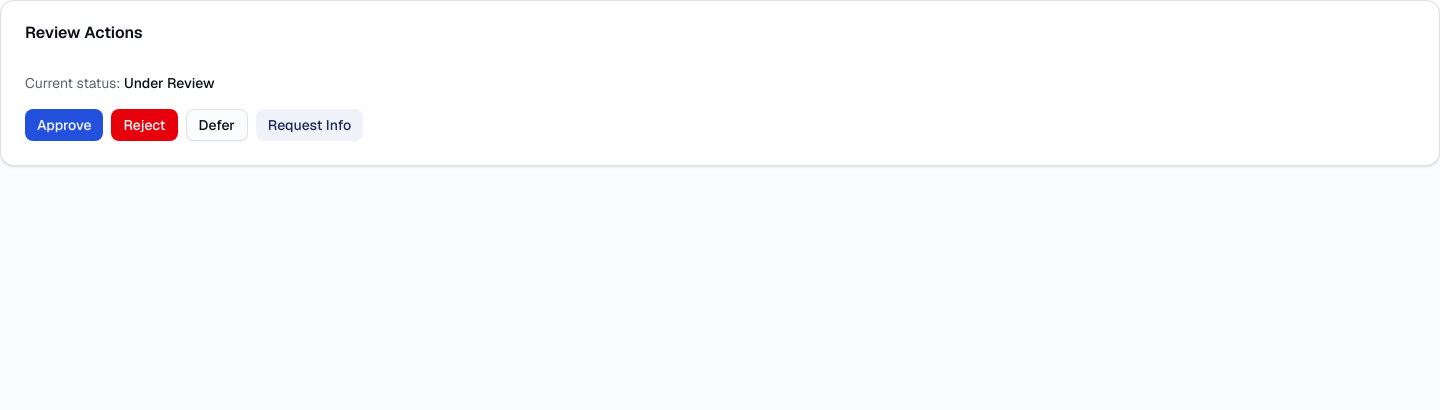
Scenario: DecisionPanel lifecycle actions › should show an error when a decision is refused
The width and height of the screenshot is (1440, 410).
Click the button "Defer" at (217, 125), box [186,109,248,141]
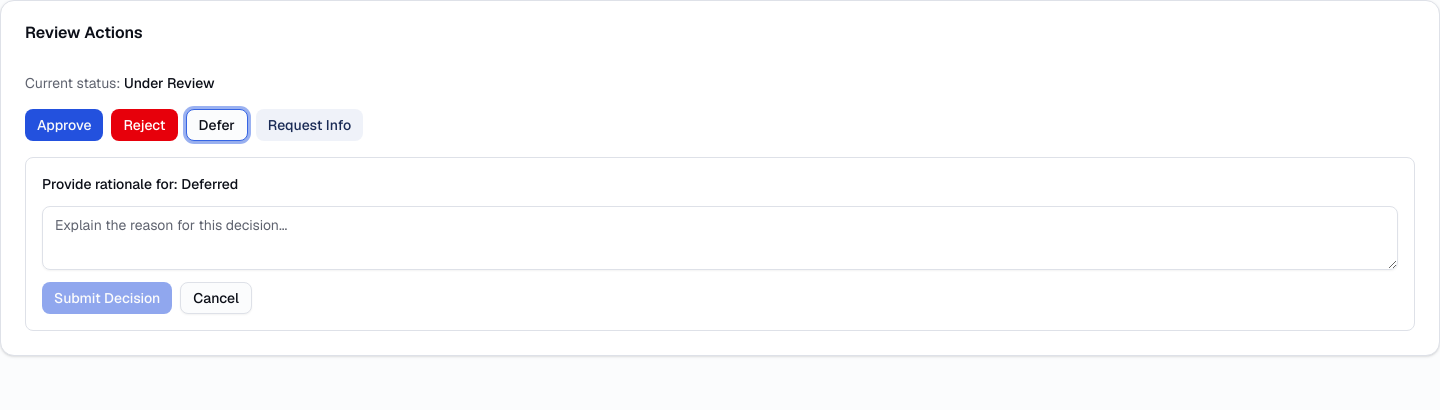
Type "Not this quarter" into the text box at (720, 238), box [42,206,1398,270]
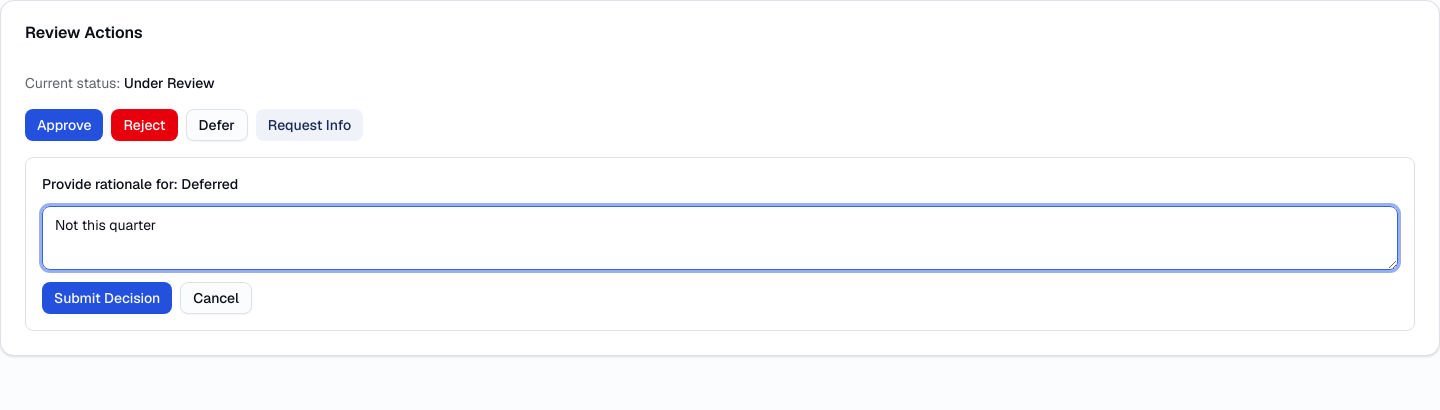
Click the button "Submit Decision" at (107, 298), box [42,282,172,314]
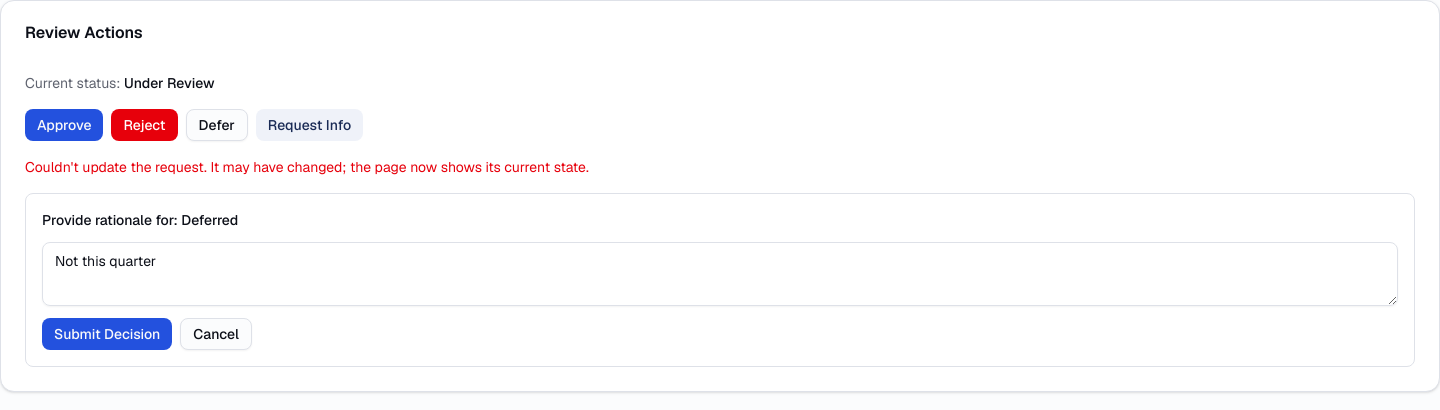
Check: the message shows "Couldn't update", box [25,158,589,176]
